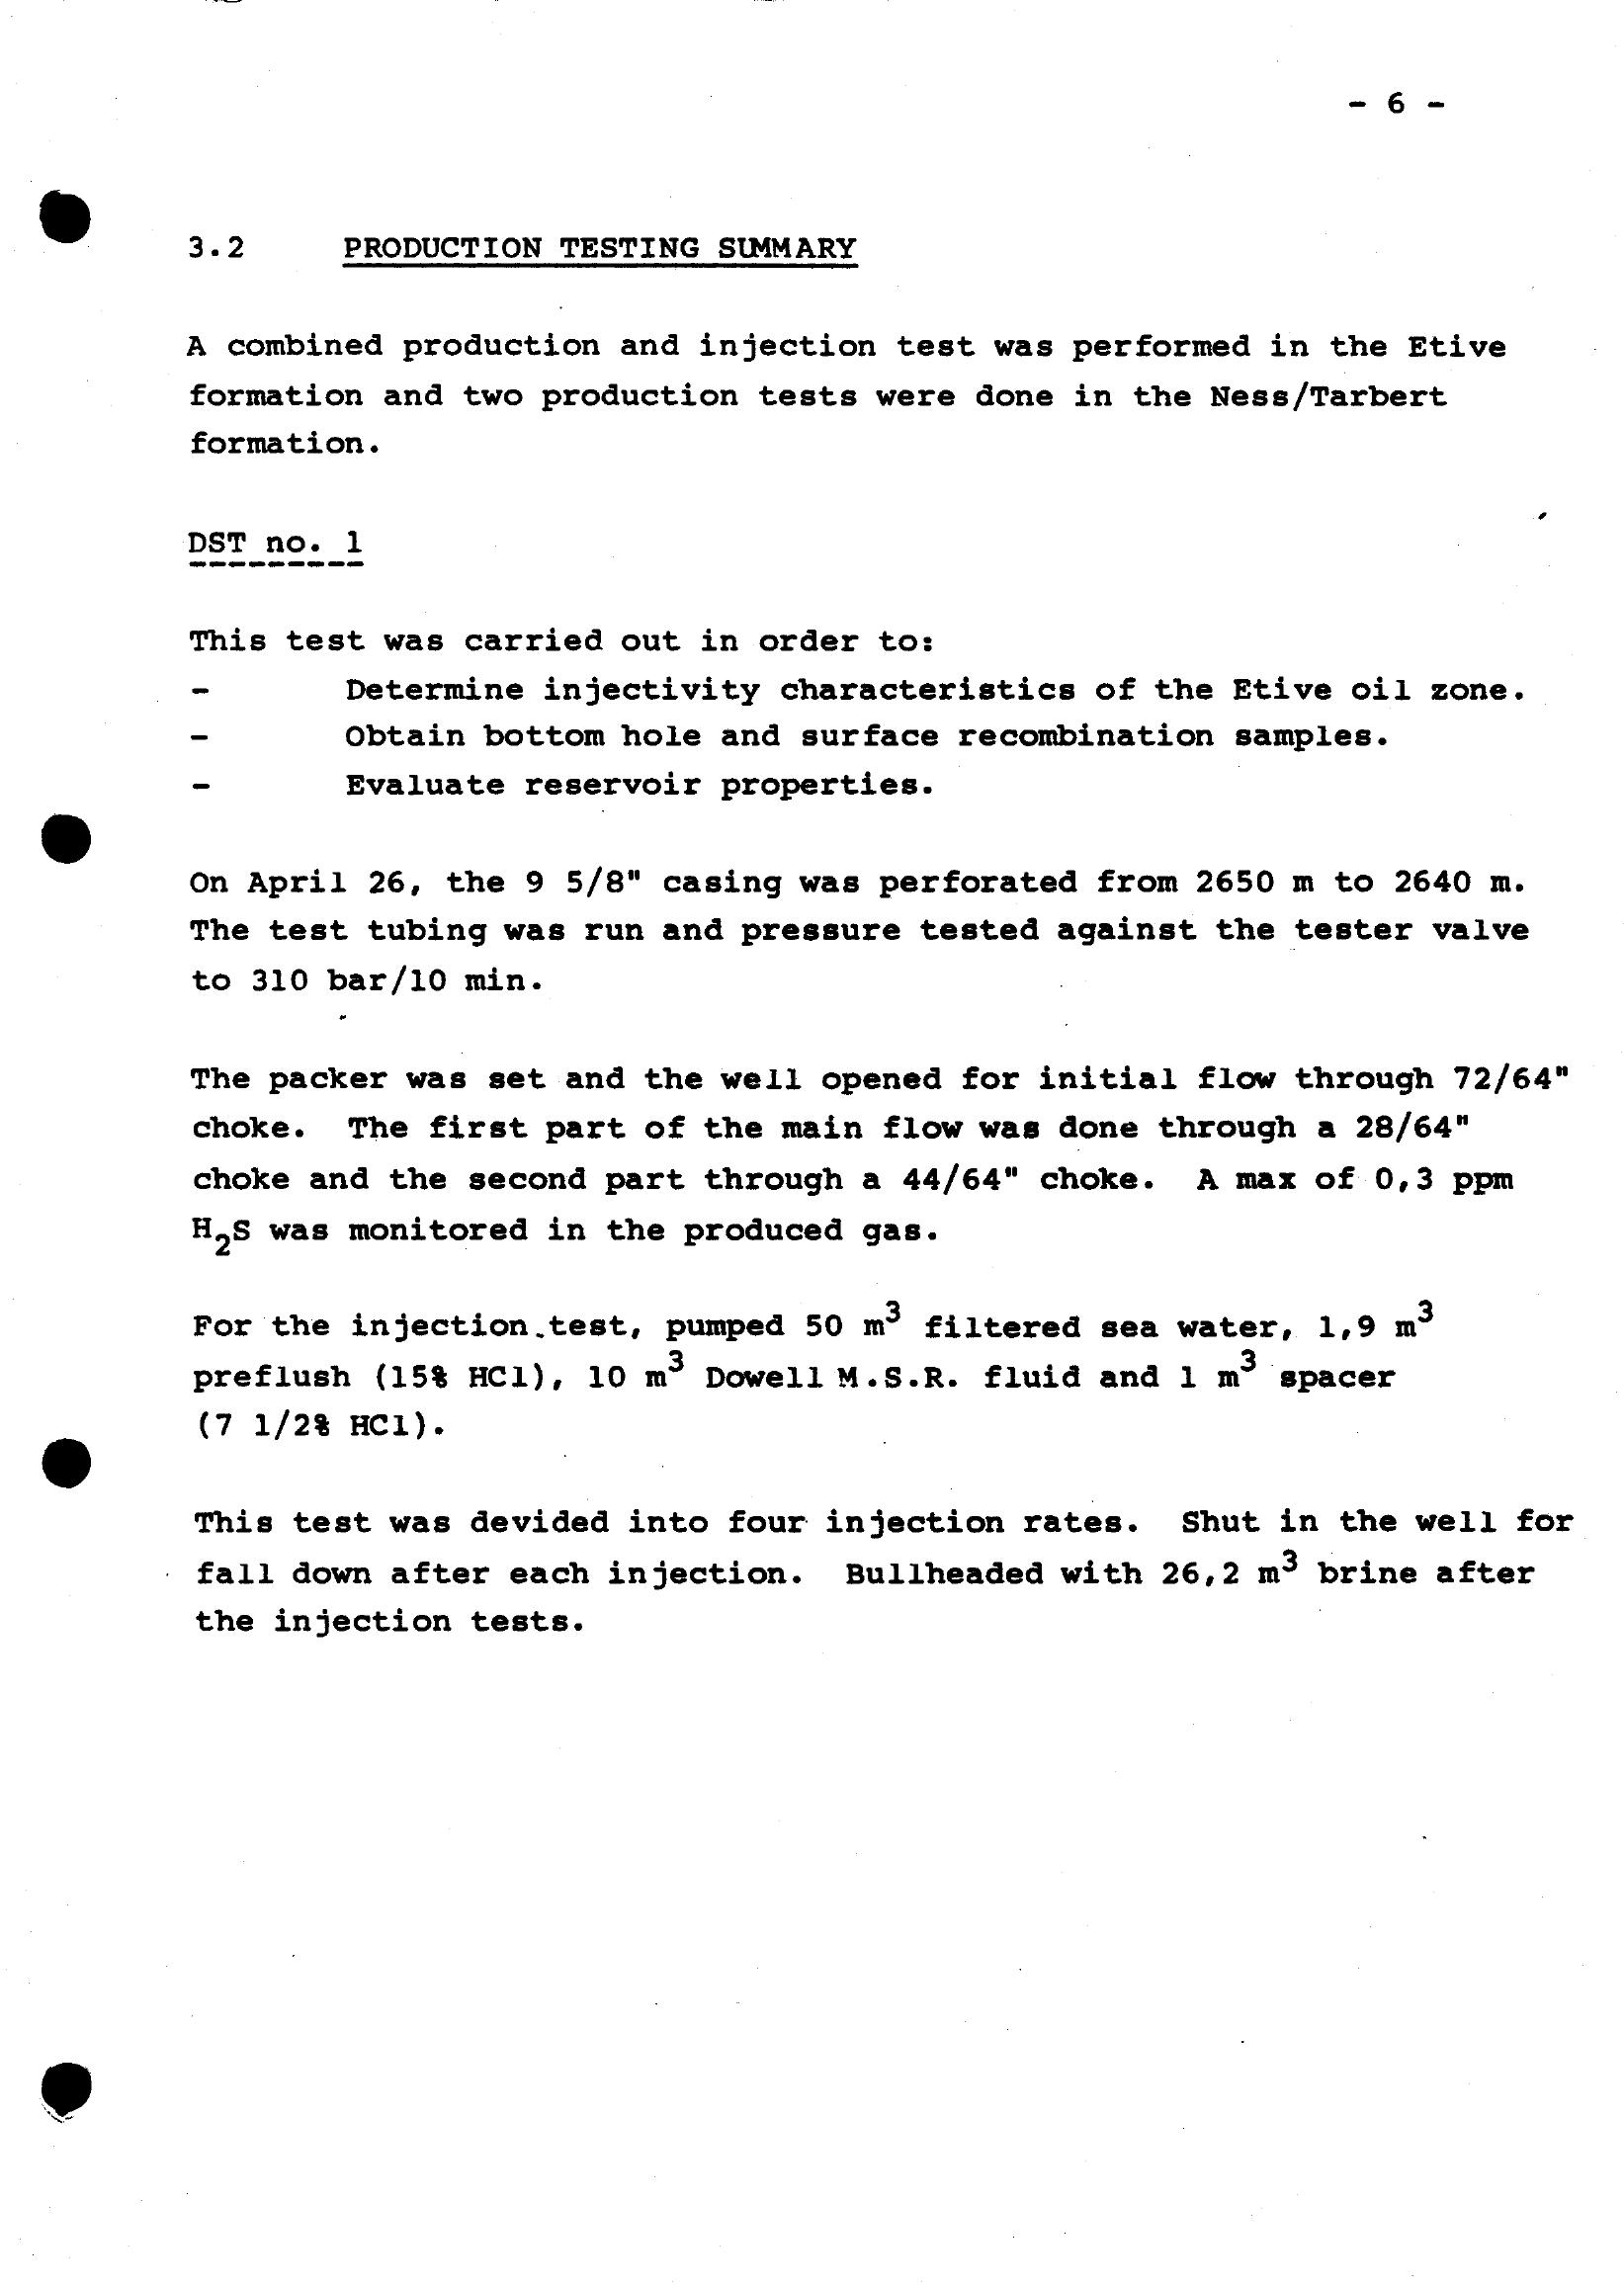text: (125, 197, 1624, 1659)
